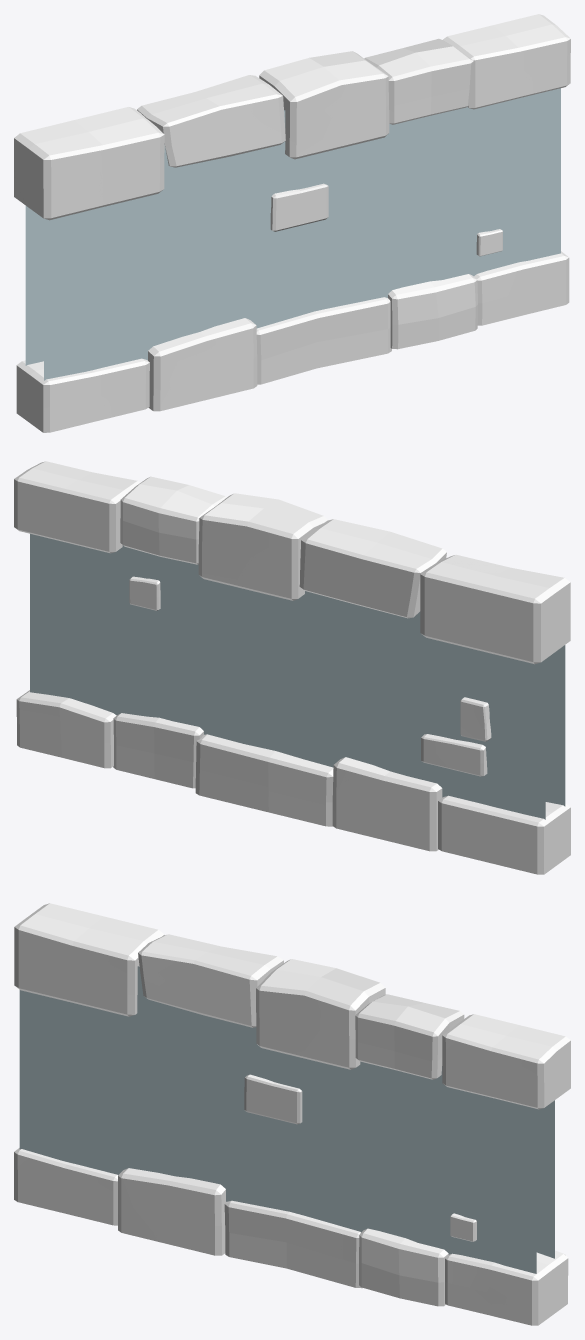
File: wall1111.glb
3 views of the same model, one above another, from view 1: azimuth 30°, elevation 25°; view 2: azimuth 150°, elevation 25°; view 3: azimuth 330°, elevation 25° (orthographic).
Visible parts, largest first — view 1: wall1; view 2: wall1; view 3: wall1.
Boxes of the visible parts, bbox=[...] form: wall1: bbox=[14, 14, 570, 432]; wall1: bbox=[14, 461, 570, 874]; wall1: bbox=[14, 903, 570, 1325].
Size of the model in its own units: 0.1023 by 0.0533 by 0.0122.
Materials: 1 (1 with a texture image).
